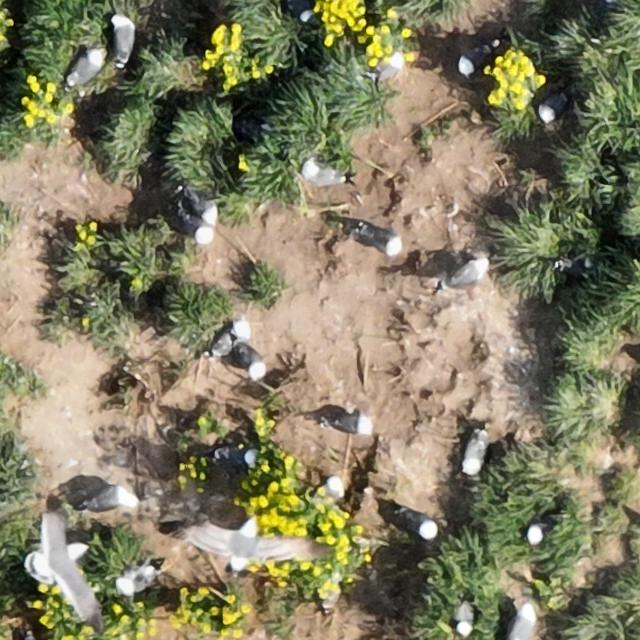F: (195, 516, 310, 570), (40, 529, 93, 618)
umineko: (208, 318, 251, 358), (172, 215, 216, 242), (70, 49, 102, 82), (361, 229, 401, 254), (86, 488, 131, 510), (117, 566, 153, 593), (325, 411, 369, 432), (401, 512, 436, 538), (509, 606, 535, 640), (114, 16, 134, 59), (451, 260, 486, 284), (303, 165, 343, 186), (459, 45, 489, 72), (189, 192, 216, 222), (539, 92, 567, 120), (240, 348, 264, 378), (374, 54, 404, 78), (464, 437, 484, 473), (318, 478, 343, 504), (219, 448, 253, 466), (457, 603, 474, 636), (287, 0, 312, 21), (526, 521, 546, 544)
